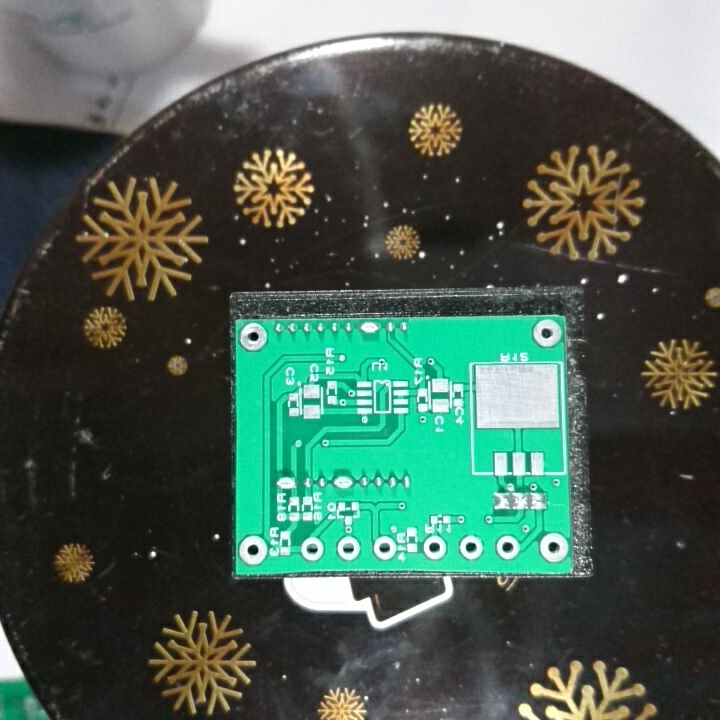F: (238, 321, 271, 354), (538, 530, 570, 564), (238, 533, 270, 566), (531, 318, 563, 348), (457, 533, 487, 562), (334, 533, 363, 562), (420, 533, 448, 562), (371, 534, 399, 562), (299, 535, 327, 562), (494, 533, 520, 561)
P: (357, 318, 382, 338), (330, 473, 357, 491), (274, 475, 299, 492)
